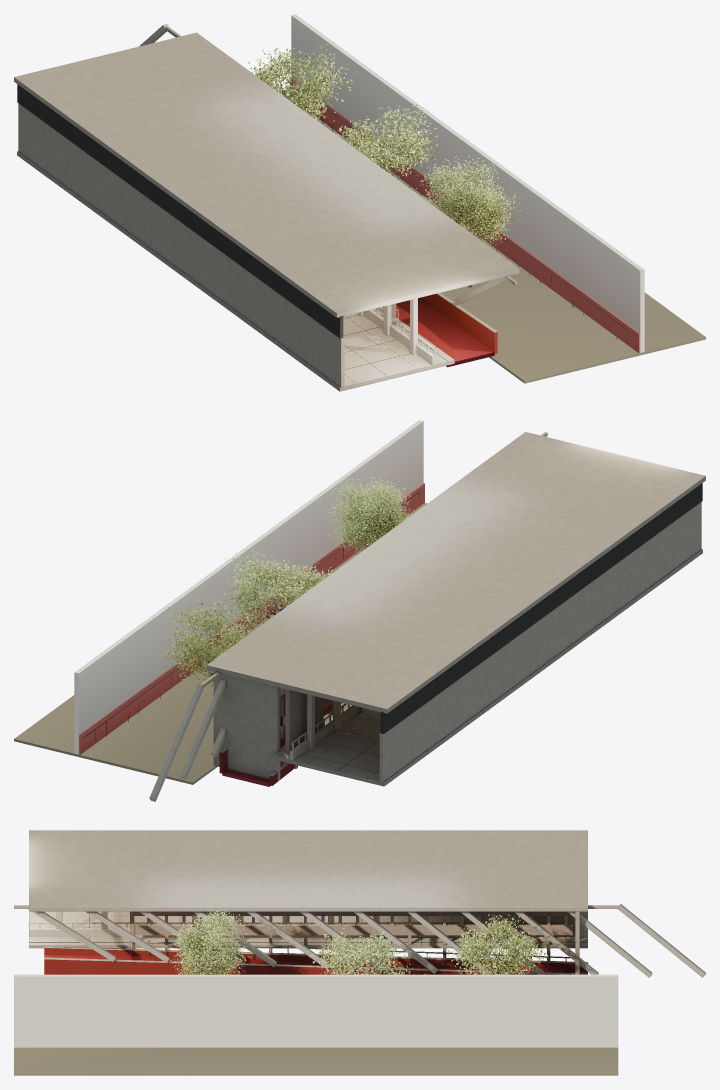
Rendered from sunlit-red-passage.glb.
3 views of the same model, one above another, from view 1: azimuth 30°, elevation 25°; view 2: azimuth 150°, elevation 25°; view 3: azimuth 270°, elevation 25° (orthographic). The views are drawn at different scales.
Visible parts, largest first — view 1: Concrete gallery, Courtyard trees, Vermilion passage, Rhythmic screen, Diagonal concrete fins; view 2: Concrete gallery, Courtyard trees, Diagonal concrete fins, Rhythmic screen, Vermilion passage; view 3: Courtyard trees, Concrete gallery, Rhythmic screen, Vermilion passage, Diagonal concrete fins.
Boxes of the visible parts, x1,y1,x2,y2 form: Concrete gallery: [14, 32, 519, 391]; Courtyard trees: [248, 14, 705, 383]; Vermilion passage: [383, 293, 497, 367]; Rhythmic screen: [364, 303, 435, 365]; Diagonal concrete fins: [139, 23, 517, 304]; Concrete gallery: [206, 432, 705, 786]; Courtyard trees: [14, 420, 427, 784]; Diagonal concrete fins: [149, 432, 547, 801]; Rhythmic screen: [280, 693, 359, 768]; Vermilion passage: [219, 702, 341, 786]; Courtyard trees: [14, 901, 618, 1075]; Concrete gallery: [29, 830, 587, 974]; Rhythmic screen: [28, 911, 587, 971]; Vermilion passage: [44, 947, 587, 974]; Diagonal concrete fins: [14, 904, 705, 977].
Bounding box in the file's own units: 23.84 × 8.23 × 45.81.
7 materials, 6 textured.
